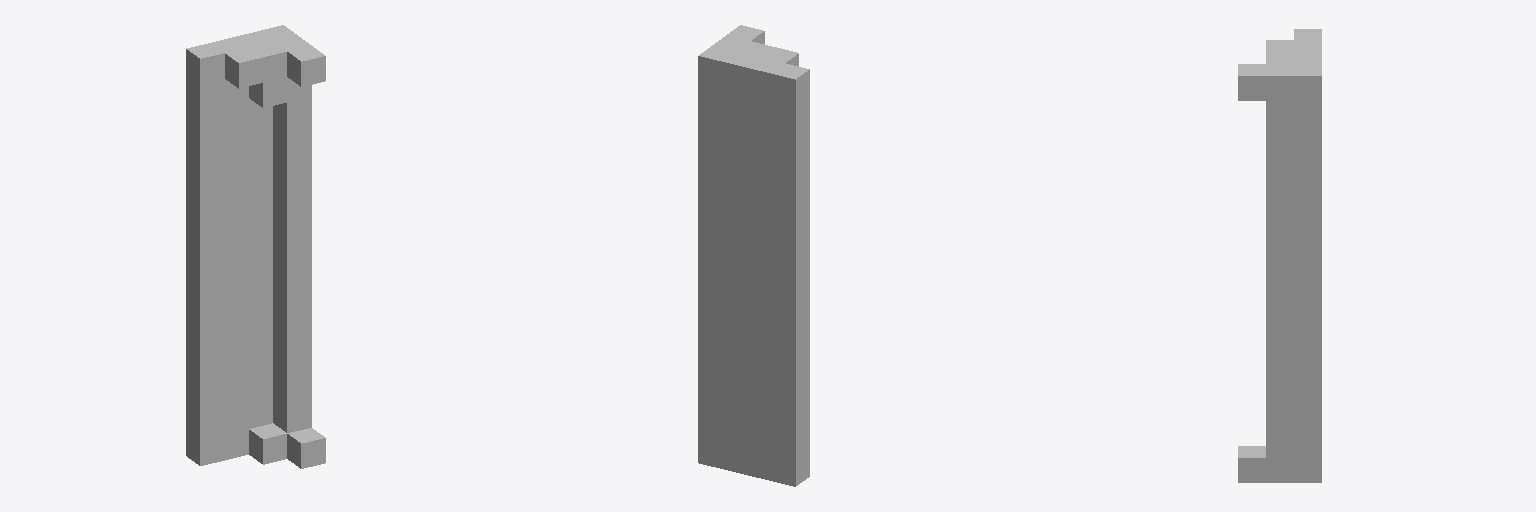
Rendered from Static Objects-2.obj.
The picture shows the model from 3 angles: view 1: azimuth 30°, elevation 25°; view 2: azimuth 150°, elevation 25°; view 3: azimuth 270°, elevation 25°; orthographic projection.
Visible parts, largest first — view 1: object 1; view 2: object 1; view 3: object 1.
Part boxes in pixels (x1,y1,x2,y2): object 1: (186,25,325,468); object 1: (698,25,809,486); object 1: (1238,29,1321,482).
Size of the model in its own units: 0.4 by 1.6 by 0.3.